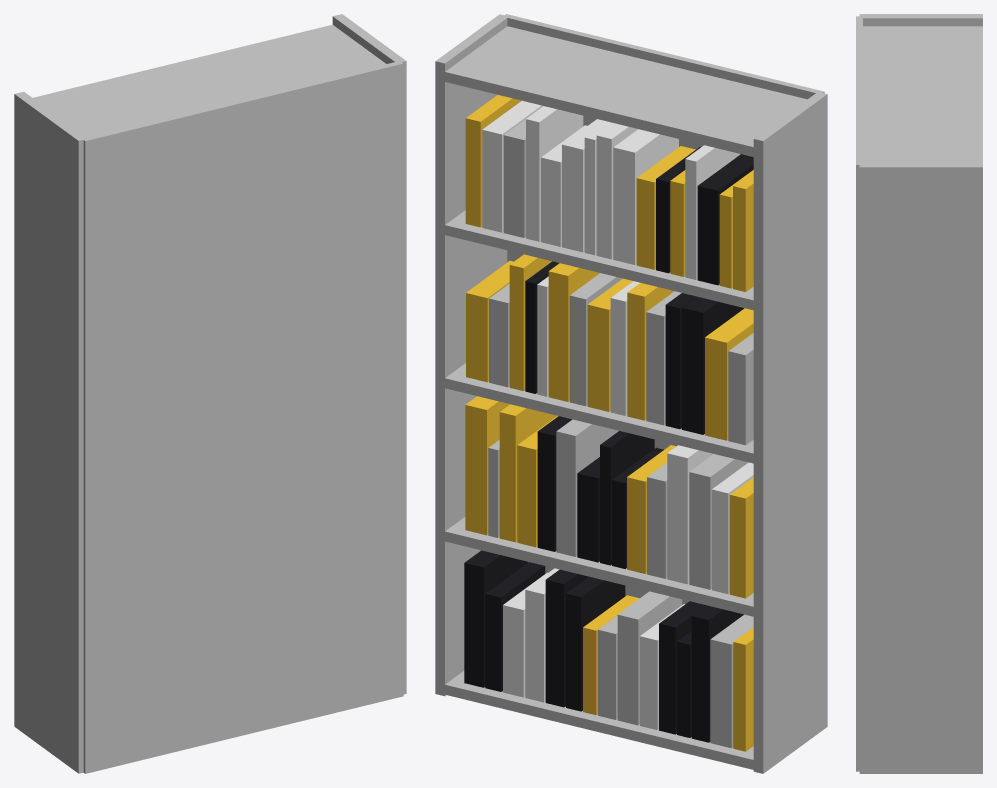
File: home_bookshelf.fbx
3 views of the same model, side by side, from view 1: azimuth 30°, elevation 25°; view 2: azimuth 150°, elevation 25°; view 3: azimuth 270°, elevation 25° (orthographic). The views are drawn at different scales.
Parts seen in each view (by area): view 1: home_bookshelf; view 2: home_bookshelf; view 3: home_bookshelf.
Boxes of the visible parts, x1,y1,x2,y2 form: home_bookshelf: (14, 14, 406, 773); home_bookshelf: (435, 14, 827, 773); home_bookshelf: (856, 14, 982, 773).
Size of the model in its own units: 1.03 by 1.9 by 0.36.
